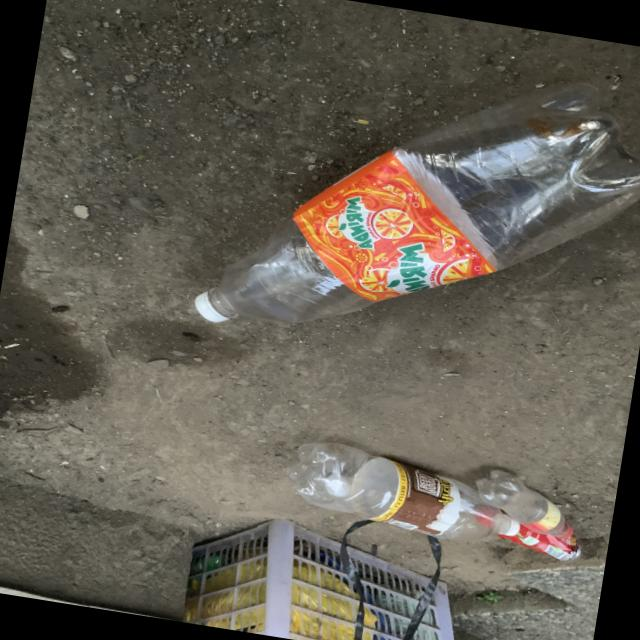Bottle: (195, 83, 640, 323)
